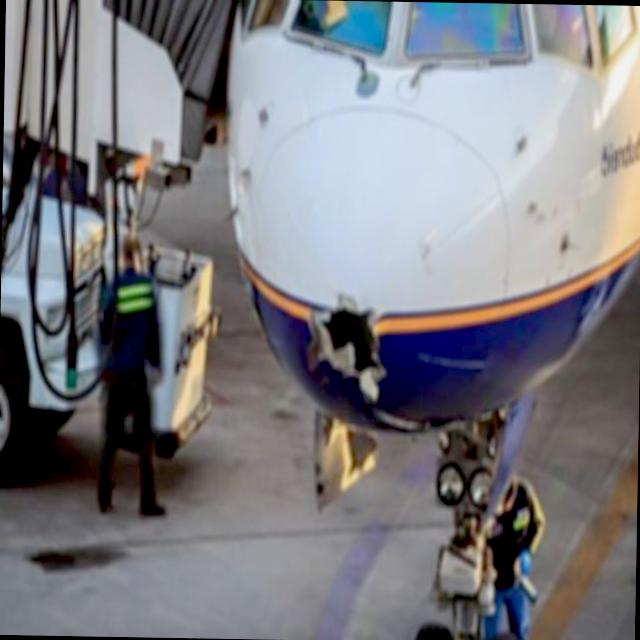crack: (300, 283, 390, 402)
